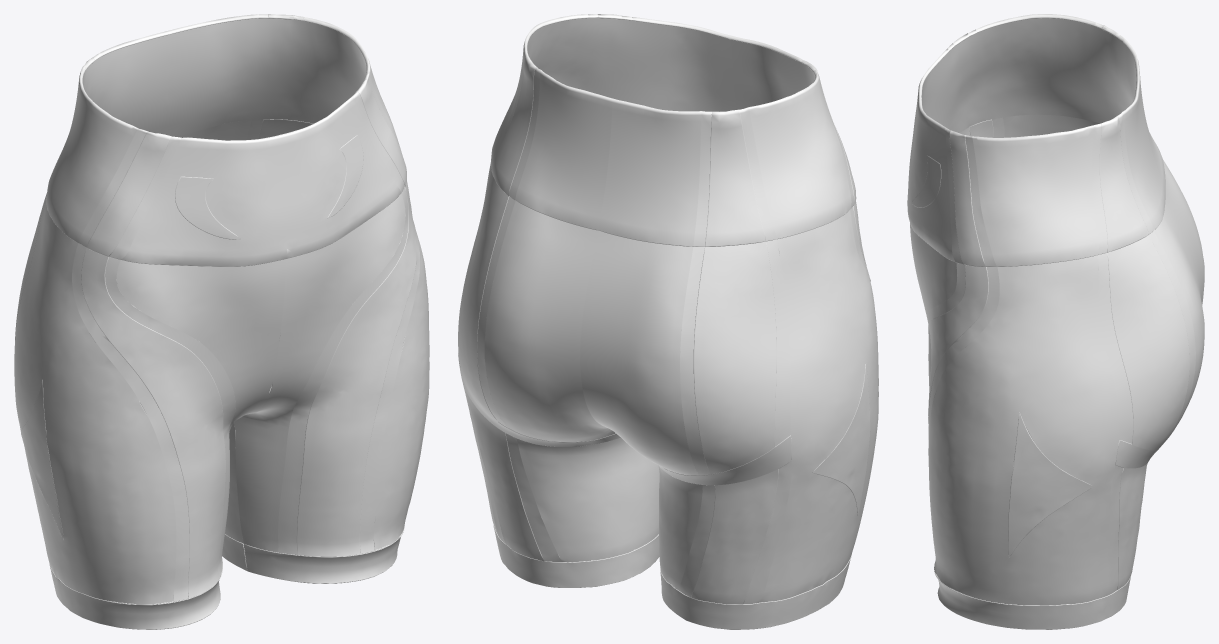
Rendered from shortspoli.glb.
3 views of the same model, side by side, from view 1: azimuth 30°, elevation 25°; view 2: azimuth 150°, elevation 25°; view 3: azimuth 270°, elevation 25° (orthographic). The views are drawn at different scales.
Visible parts, largest first — view 1: shortspoli; view 2: shortspoli; view 3: shortspoli.
Part boxes in pixels (x1,y1,x2,y2): shortspoli: (14, 14, 429, 629); shortspoli: (458, 14, 878, 629); shortspoli: (907, 14, 1204, 629).
Size of the model in its own units: 0.4339 by 0.56 by 0.3084.
1 material, 1 textured.
